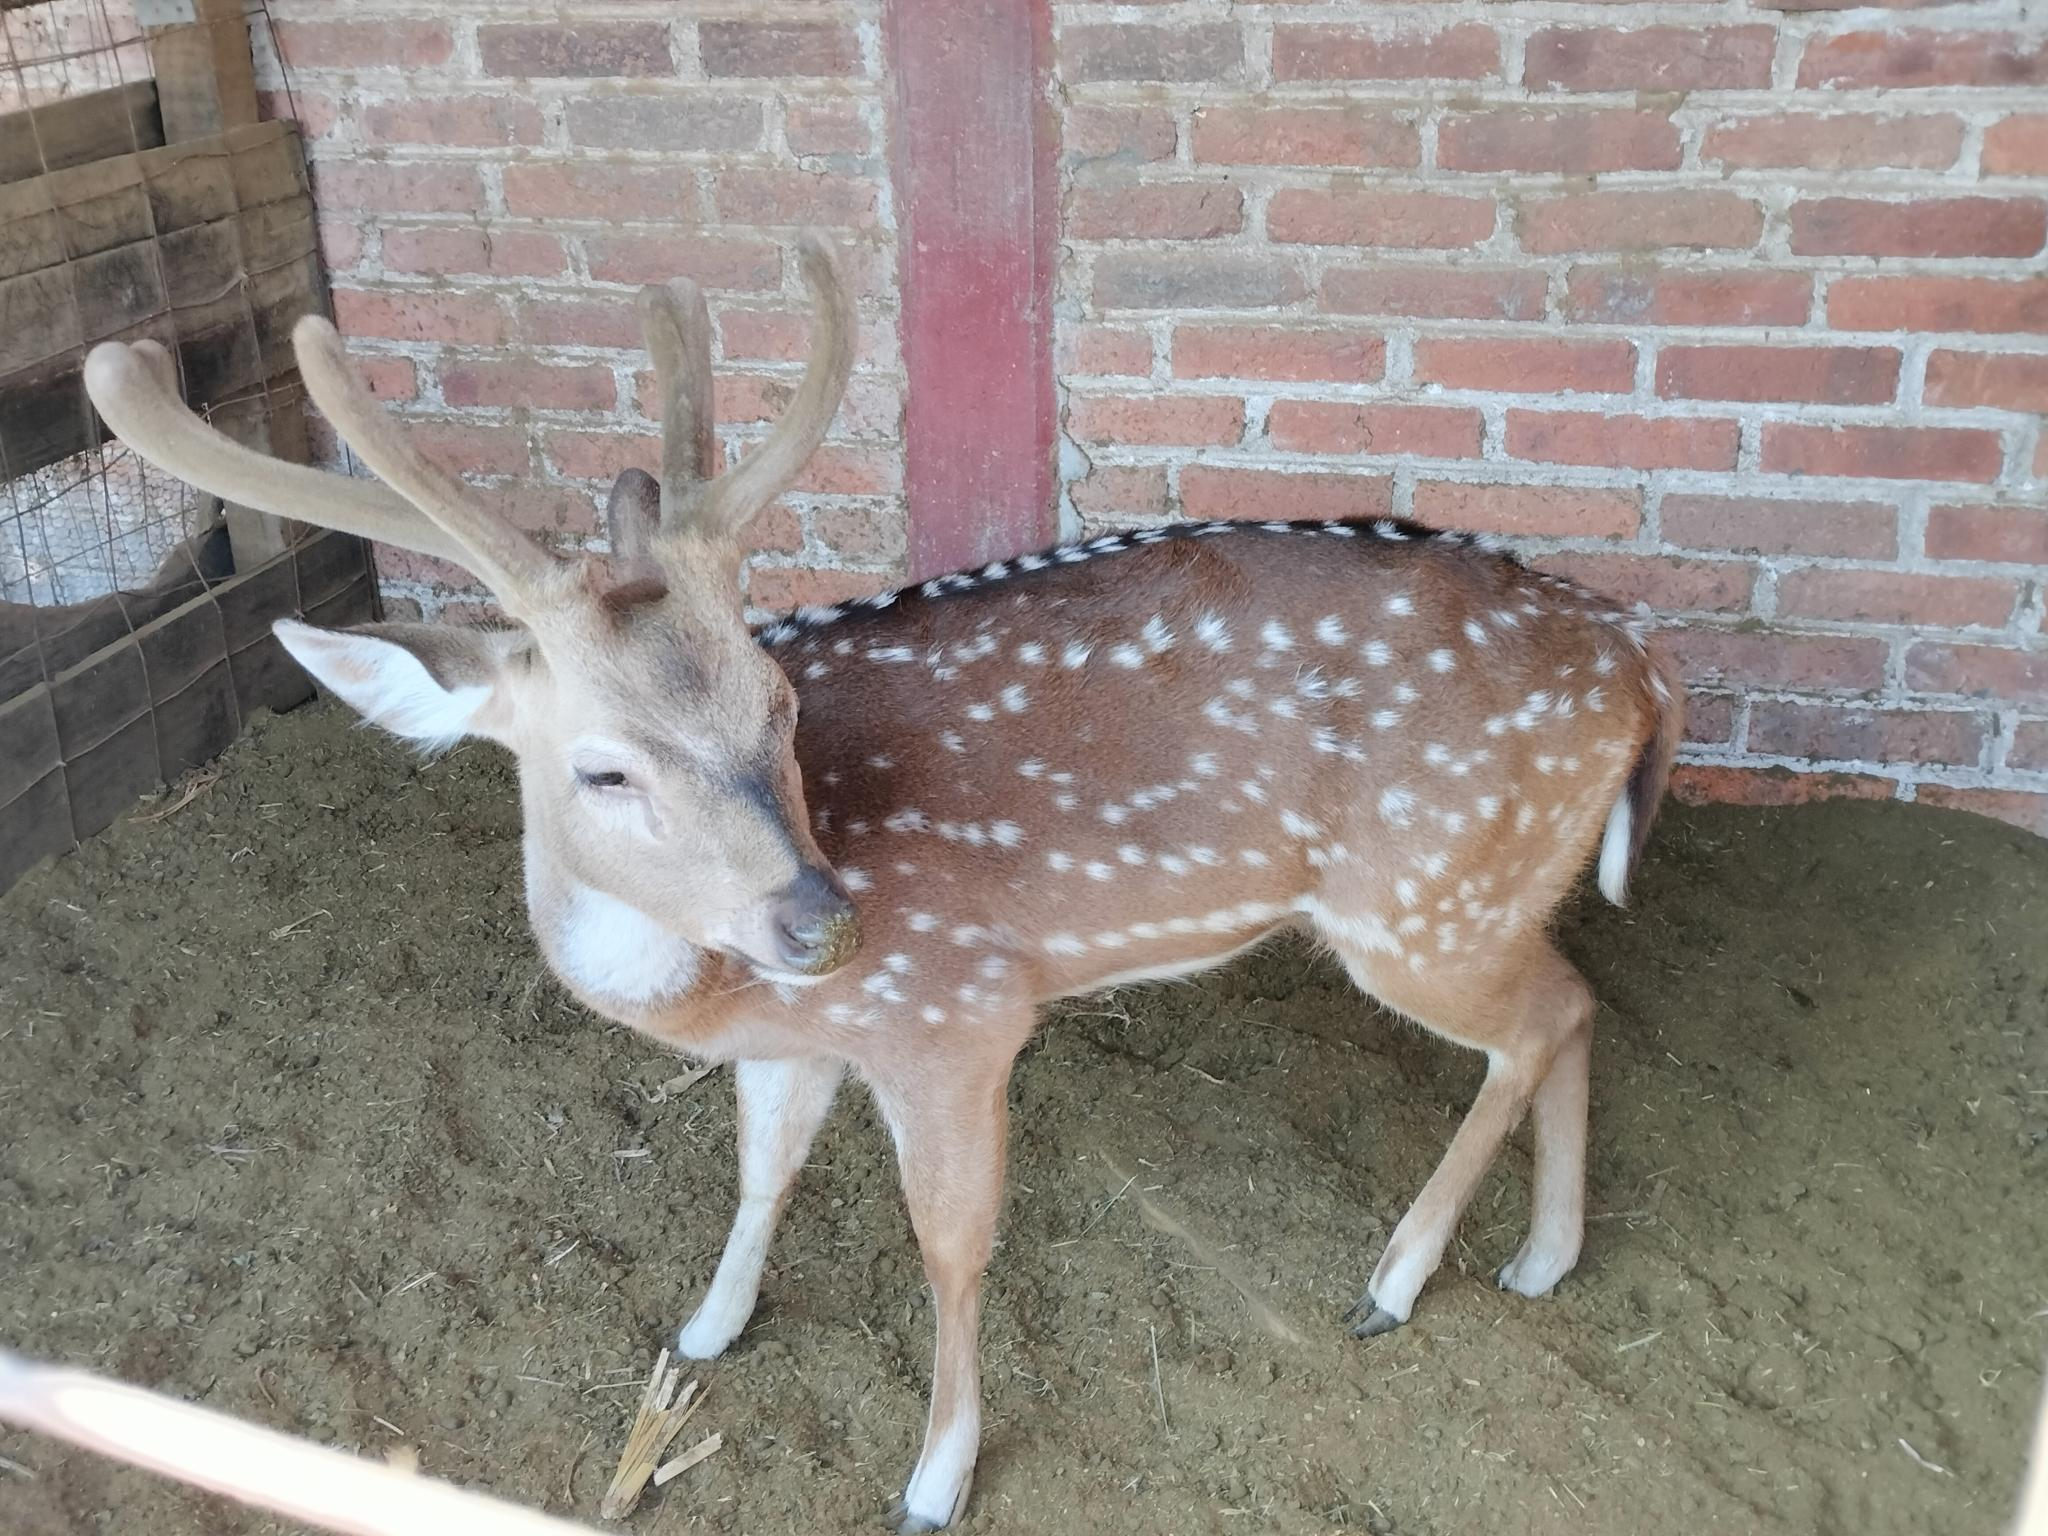Deer: (87, 245, 1684, 1530)
